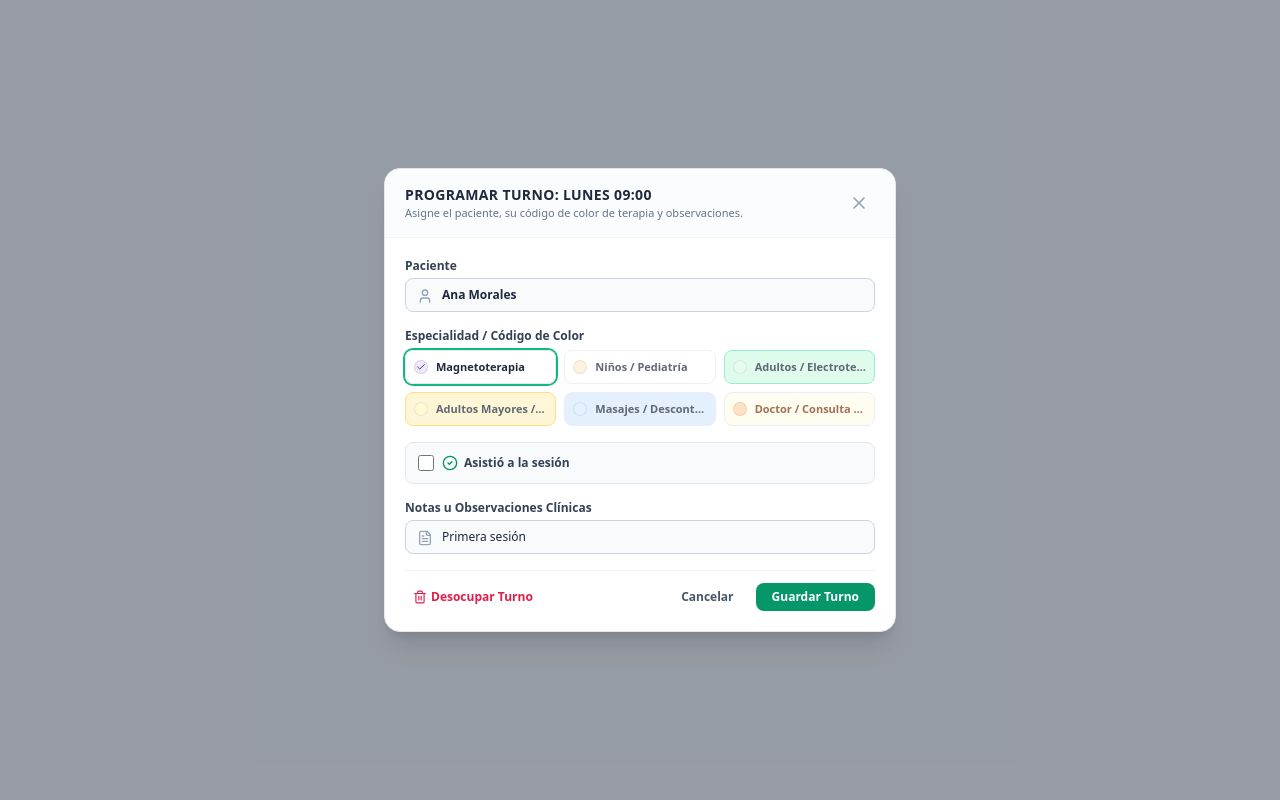
ModalTurno Component (Edición Ergonómica de Turno) › debe permitir seleccionar un paciente de la lista predictiva
The width and height of the screenshot is (1280, 800).
Replace the text in the field labelled "Paciente" with "Bernardo" at point(640, 295), box [405,278,875,312]
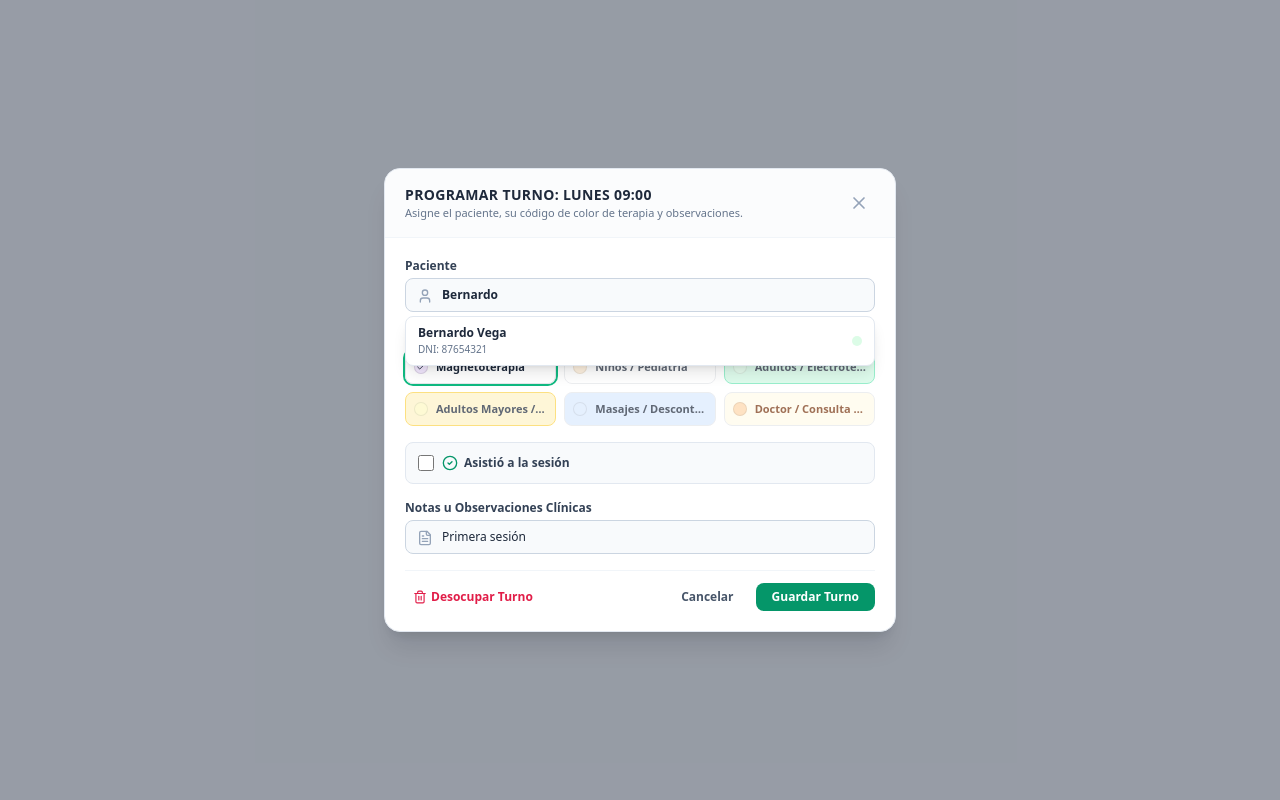
Click the text "Bernardo Vega".
click(462, 333)  # box [418,325,507,341]
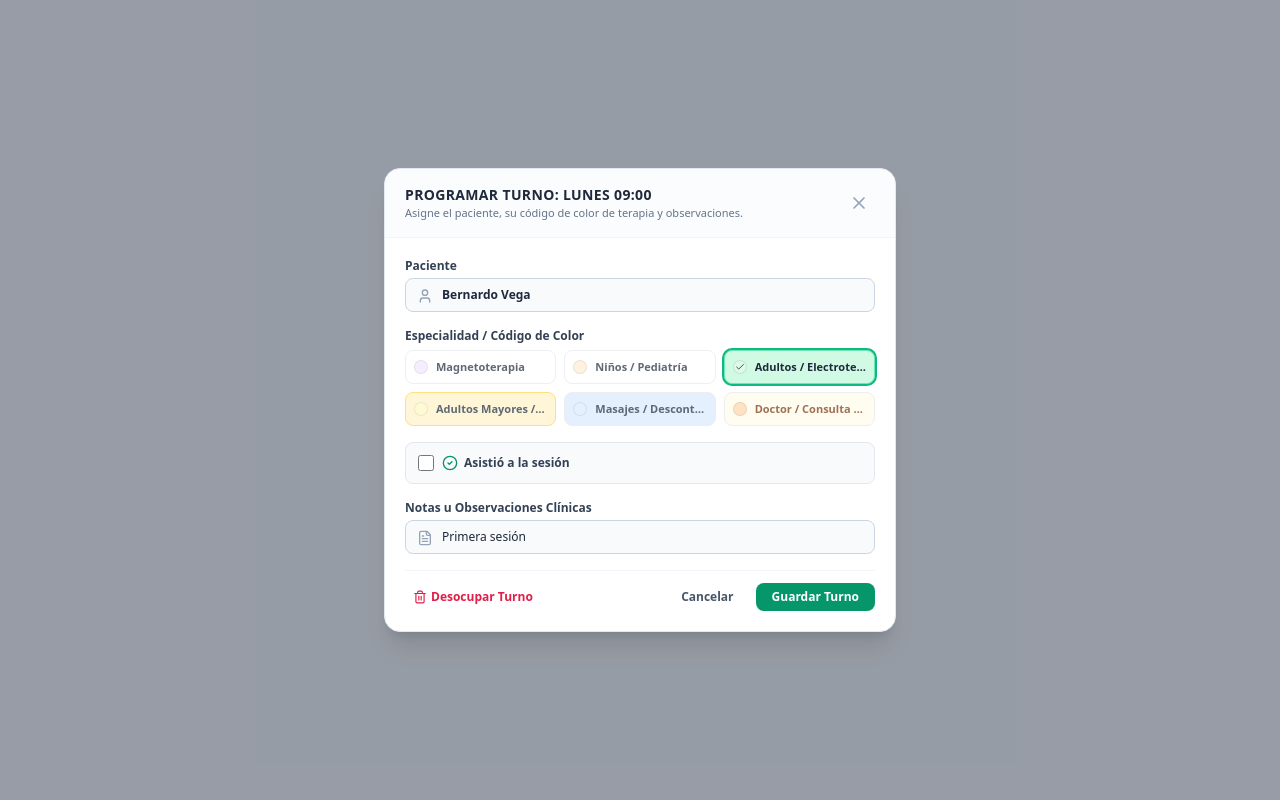
Result: the field showing "Bernardo Vega" is shown at [405,278,875,312]
